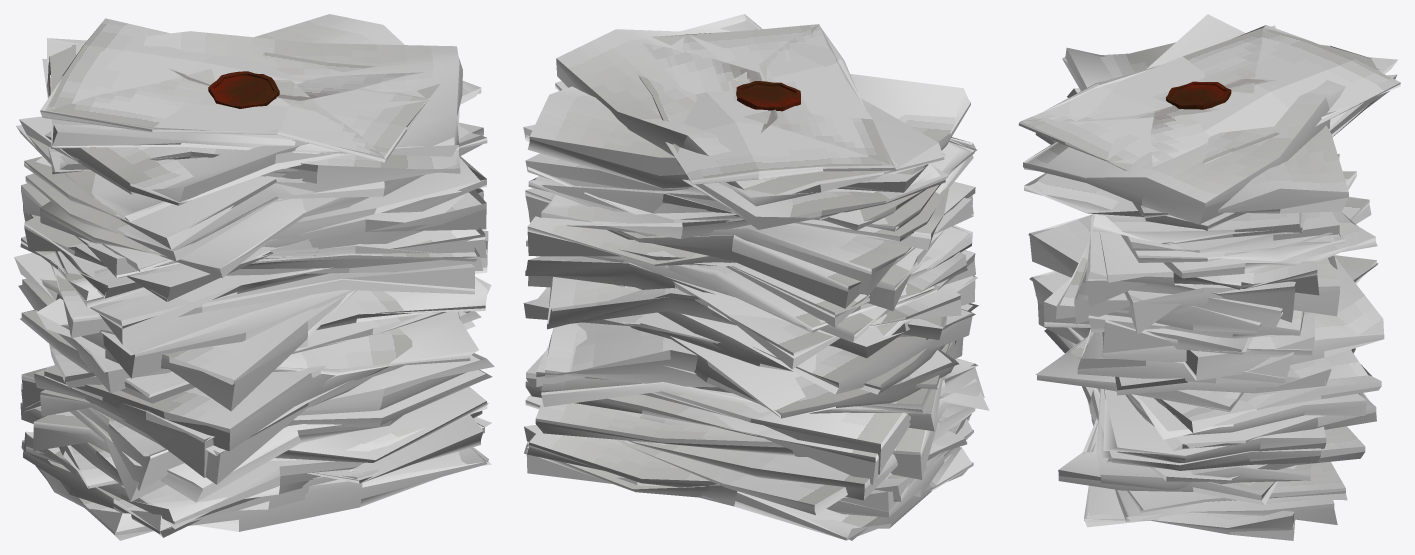
Rendered from Envelope_Stack.fbx.
3 views of the same model, side by side, from view 1: azimuth 30°, elevation 25°; view 2: azimuth 150°, elevation 25°; view 3: azimuth 270°, elevation 25° (orthographic). The views are drawn at different scales.
Visible parts, largest first — view 1: paper stack, Cylinder.061, Cylinder.060; view 2: paper stack, Cylinder.061, Cylinder.060; view 3: paper stack, Cylinder.061, Cylinder.060.
Part boxes in pixels (x1,y1,x2,y2): paper stack: (14,14,494,540); Cylinder.061: (40,18,440,162); Cylinder.060: (208,71,279,108); paper stack: (523,14,989,540); Cylinder.061: (638,24,896,184); Cylinder.060: (736,81,800,111); paper stack: (1023,14,1397,540); Cylinder.061: (1018,25,1400,171); Cylinder.060: (1166,81,1231,109).
Size of the model in its own units: 103 by 93.75 by 88.72.
Materials: 2 (2 with a texture image).
